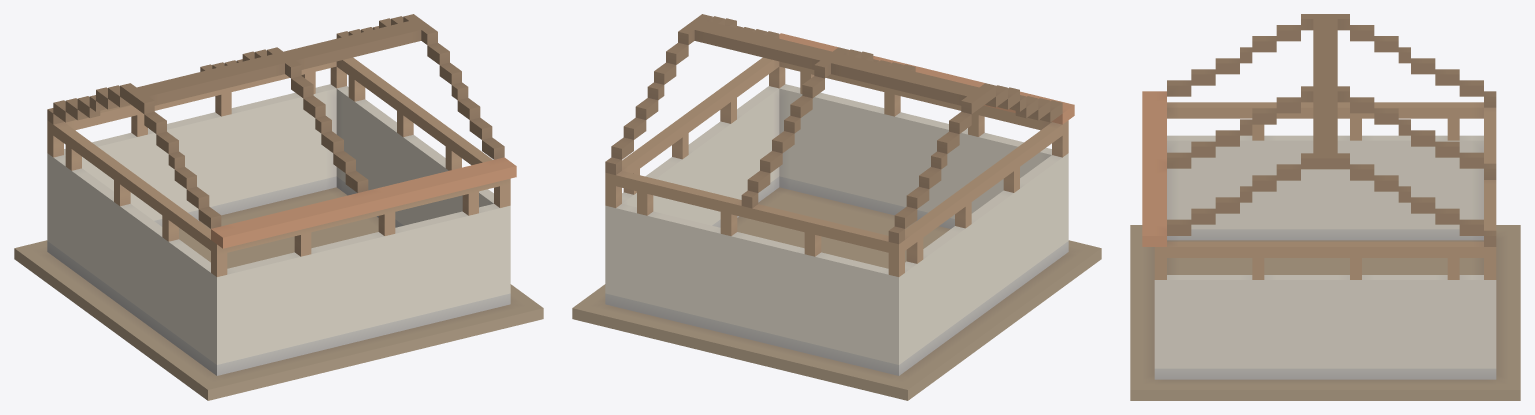
File: life_stage_4.v2.glb
3 renders of one model, left to right at view 1: azimuth 30°, elevation 25°; view 2: azimuth 150°, elevation 25°; view 3: azimuth 270°, elevation 25°, orthographic.
Parts seen in each view (by area): view 1: life_stage_4; view 2: life_stage_4; view 3: life_stage_4.
Part boxes in pixels (left/top/right/bottom): life_stage_4: left=14, top=14, right=543, bottom=400; life_stage_4: left=572, top=14, right=1101, bottom=400; life_stage_4: left=1130, top=14, right=1520, bottom=400.
Bounding box in the file's own units: 4 × 2.62 × 4.
